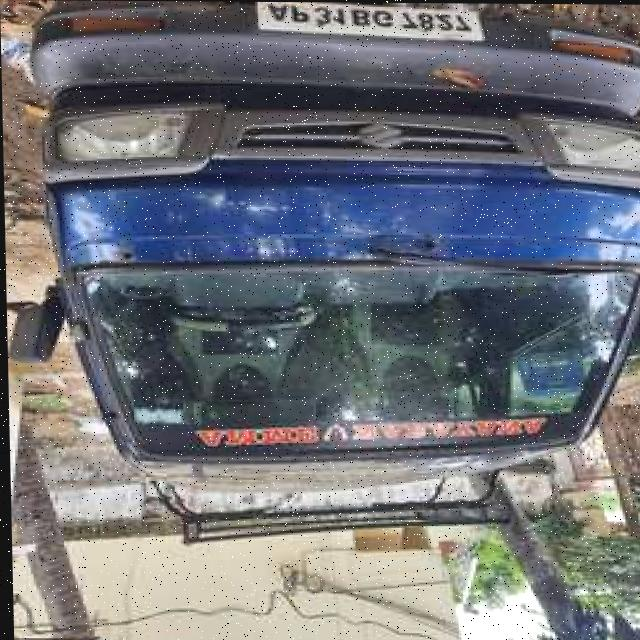plate: (252, 1, 484, 44)
